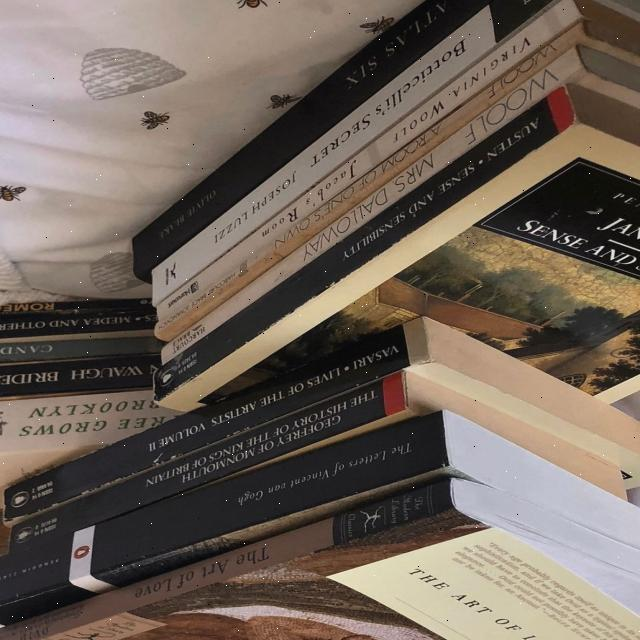book: (155, 0, 579, 328), (155, 82, 573, 405), (0, 314, 430, 528), (0, 480, 457, 640), (15, 377, 408, 562)
